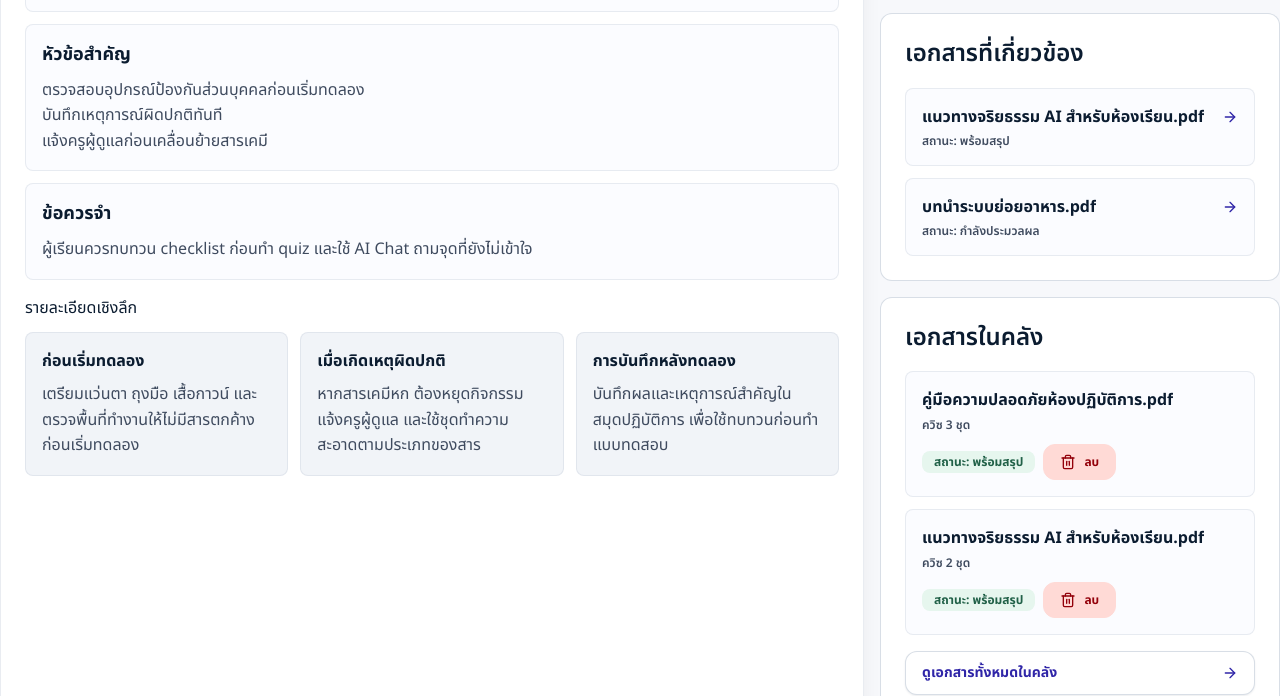
Scenario: DocumentSummaryPage › lets a user delete an uploaded document from the library after confirmation
(page scrolled)
Click the button with aria-label "ลบเอกสาร แนวทางจริยธรรม AI สำหรับห้องเรียน.pdf".
click(1080, 600)  # box [1043,582,1116,618]
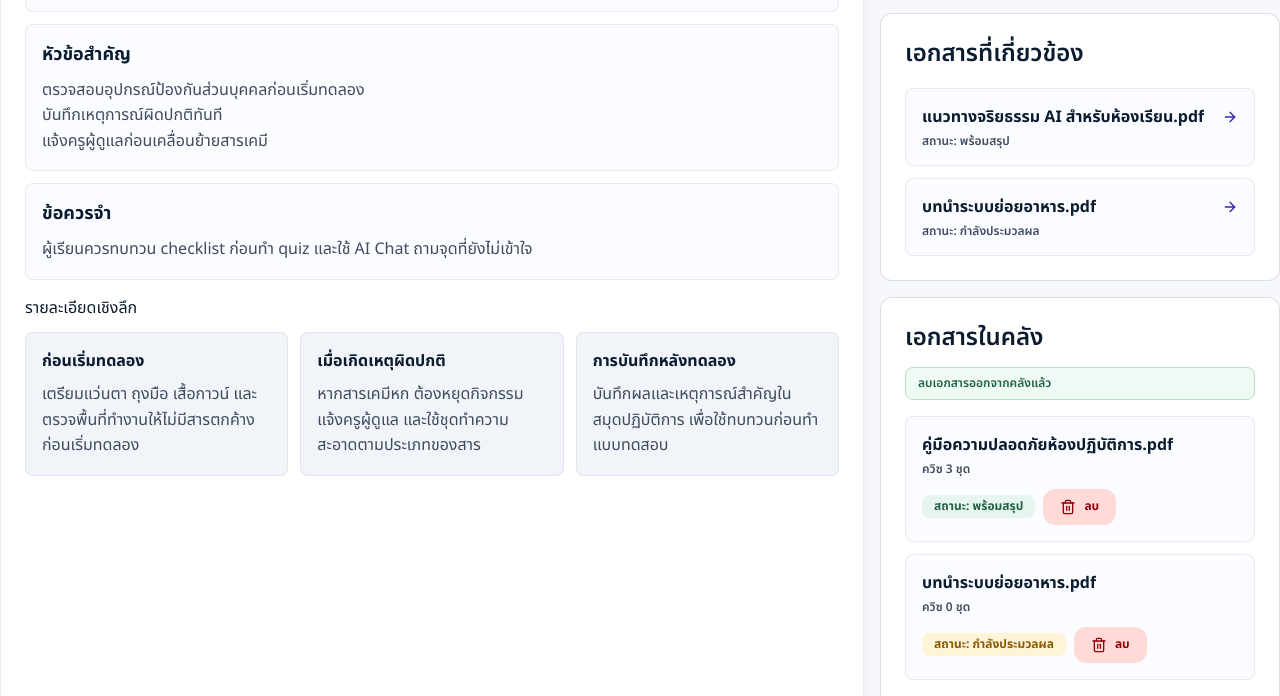
Expected: the message reads "ลบเอกสารออกจากคลังแล้ว", [918,374,1051,392]
